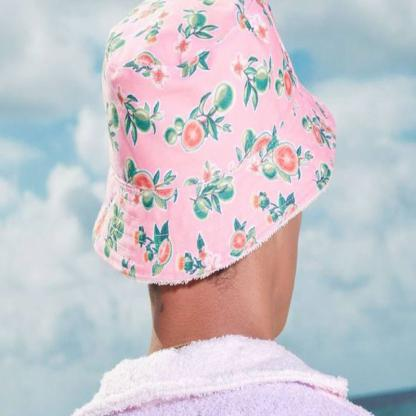hat: (86, 0, 344, 294)
